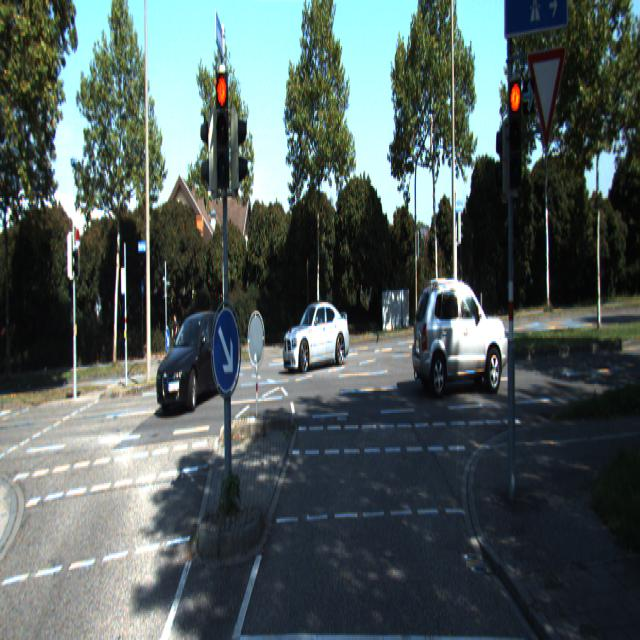Car: (411, 276, 512, 396), (154, 308, 232, 412), (280, 297, 350, 374)
